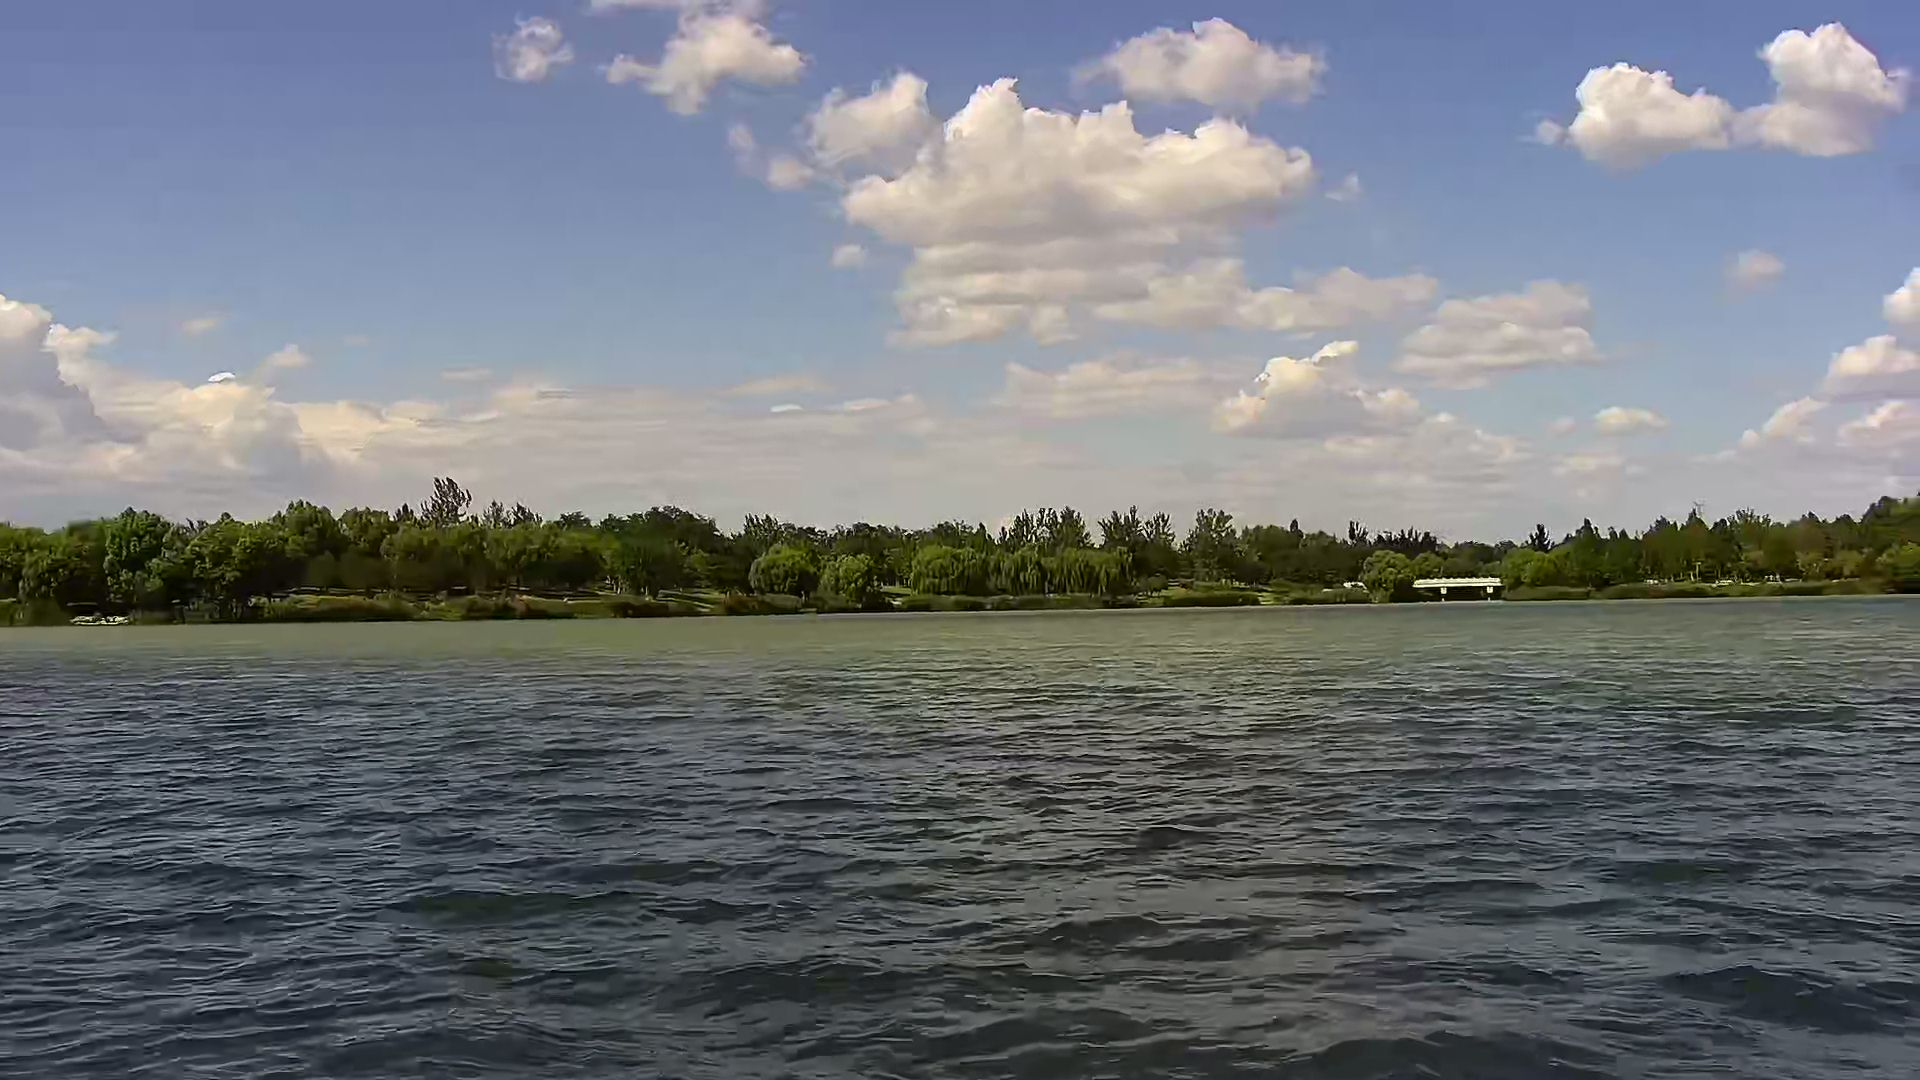bridge: (1408, 575, 1506, 611)
